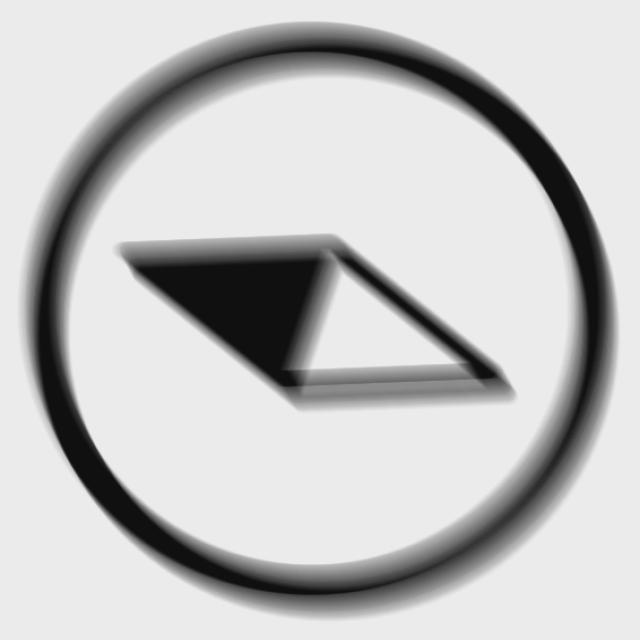compass: (13, 17, 628, 632)
